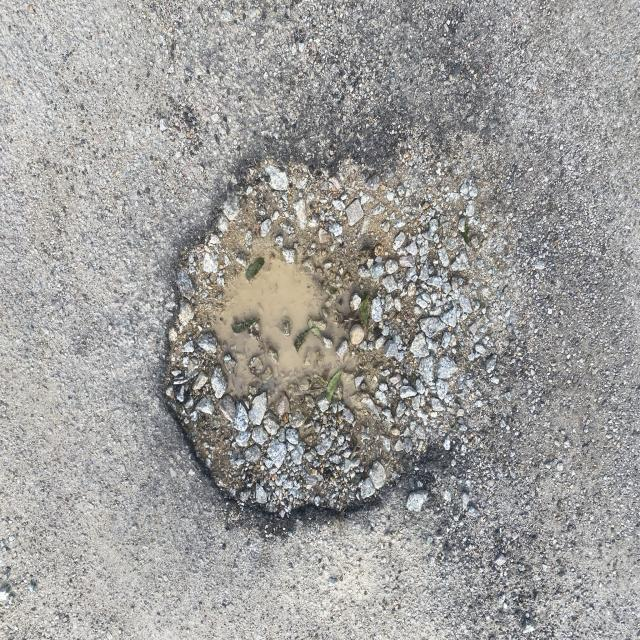pothole: (131, 122, 486, 566)
